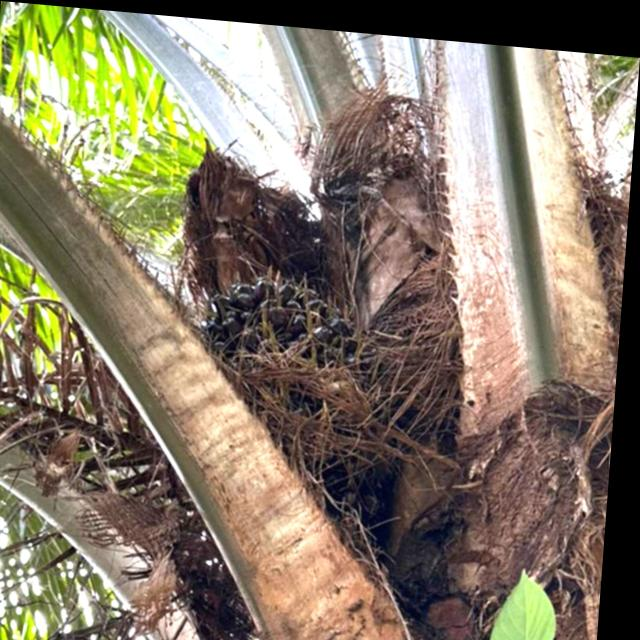unripe: (128, 239, 419, 539)
